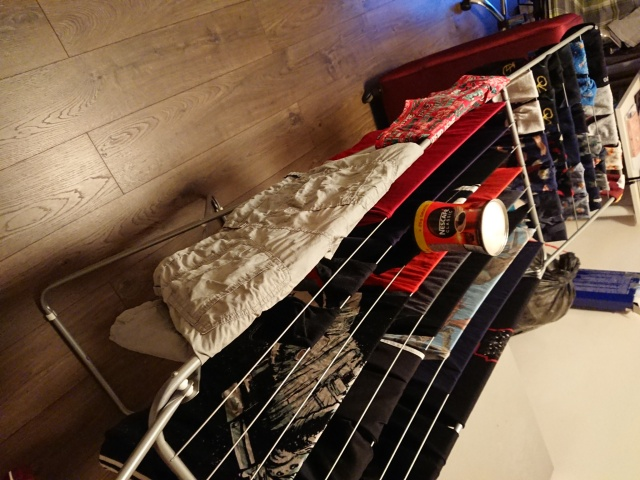Nescafe Classic 225g: (409, 196, 512, 259)
